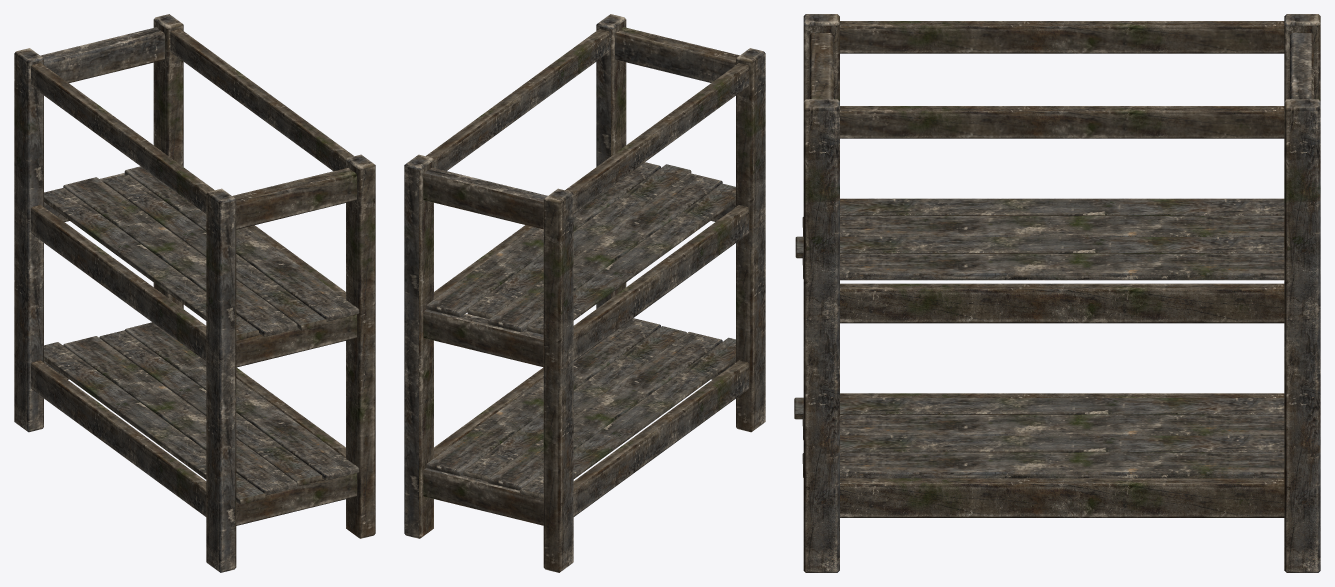
File: Bed_Double.fbx
The picture shows the model from 3 angles, left to right: view 1: azimuth 30°, elevation 25°; view 2: azimuth 150°, elevation 25°; view 3: azimuth 270°, elevation 25°; orthographic projection. The views are drawn at different scales.
Visible parts, largest first — view 1: Bed_Double_LOD0; view 2: Bed_Double_LOD0; view 3: Bed_Double_LOD0.
Boxes of the visible parts, x1,y1,x2,y2 form: Bed_Double_LOD0: (14, 14, 375, 572); Bed_Double_LOD0: (404, 14, 765, 572); Bed_Double_LOD0: (794, 14, 1320, 572).
Size of what is drawn, in the model's own units: 90.62 by 205 by 211.
